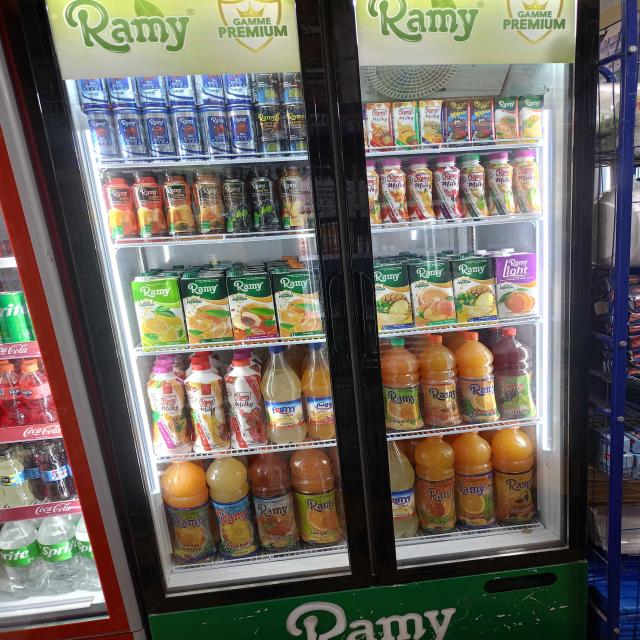PET Frutty Annanas 2L: (381, 440, 416, 540)
PET Ramy Orange 125 L: (460, 330, 493, 425)
PET Ramy orange abricot 125L: (378, 338, 426, 429)
PET Ramy peche abricot 125 L: (422, 334, 458, 429)
PET Ramy peche abricot 2l: (491, 426, 541, 525)
Pack Ramy premium Orange 1L: (276, 264, 322, 342), (190, 272, 226, 348)
Pack Ramy premium citron1L: (138, 274, 176, 352)
Pack Ramy premium orange peche fraise 1L: (224, 270, 279, 342)
Pet Ramy Orange 2L: (454, 431, 496, 529)
Pet Ramy Orange Ananas: (155, 458, 221, 562)
Pet Ramy Orange peche 2l: (413, 437, 457, 532)
Premium Pack Ramy Light Orange 1L: (498, 245, 539, 320)
Premium Pack Ramy ananas 1L: (456, 251, 493, 327)
Premium Pack Ramy ananasabricot1L: (368, 260, 412, 330)
Premium Pack Ramy orange abricot1L: (407, 257, 457, 328)
Ramy Extra orange peche fraise 300ml: (132, 170, 168, 238), (98, 172, 130, 240)
Ramy Milky peach 20 CL: (369, 103, 392, 152)
Ramy milky Ananas 20cl: (420, 100, 444, 149)
Ramy milky cocktail 20cl: (144, 366, 192, 456)
UP Choco 20 CL: (444, 100, 472, 146), (495, 97, 520, 144), (470, 99, 495, 145)
fanta: (17, 362, 57, 423), (0, 362, 20, 432)
frutpet frutty annanas 125L: (260, 348, 310, 443)
frutty: (304, 342, 328, 443)
pet ramy 125 L: (498, 326, 534, 422)
pet ramy ananas 2L: (218, 453, 257, 564)
pet ramy orange abricot 2L: (292, 445, 344, 547)
pet ramy orange peche fraise 2L: (260, 451, 298, 554)
ramy energy drink cannete: (254, 105, 284, 153), (283, 104, 310, 156), (254, 72, 280, 105), (282, 71, 302, 103)
ramy extra 300ml abricot: (194, 168, 220, 235), (168, 166, 189, 237)
ramy extra 300ml peche: (280, 163, 308, 234)
ramy extra 300ml raisin: (250, 165, 280, 235), (224, 164, 247, 234)
ramy milky 2L fraise: (224, 358, 269, 448)
ramy milky ananas pomme300ml: (348, 158, 382, 228)
ramy milky fraise framboise 300ml: (430, 155, 462, 225)
ramy milky mango 20cl: (395, 101, 417, 151)
ramy milky peche300ml: (378, 157, 410, 228)
ramy milky pomme banane 2l: (182, 360, 232, 451)
ramy milky pomme banane 300ml: (405, 157, 436, 225)
ramy milky pomme et poire 300ml: (512, 147, 544, 220), (486, 151, 512, 220), (462, 153, 486, 226)
ramy red buffalo: (78, 110, 120, 166), (113, 111, 149, 162), (144, 109, 178, 162), (170, 106, 203, 160), (201, 105, 226, 160), (228, 106, 254, 156), (75, 77, 108, 108), (138, 75, 168, 109), (222, 74, 254, 105), (194, 74, 225, 106), (107, 77, 137, 109), (170, 74, 197, 108)
sprite: (34, 514, 77, 598), (0, 521, 44, 601), (77, 510, 106, 597), (0, 286, 30, 343)
